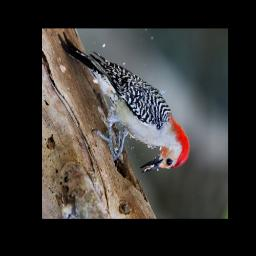Woodpecker: (59, 35, 189, 172)
